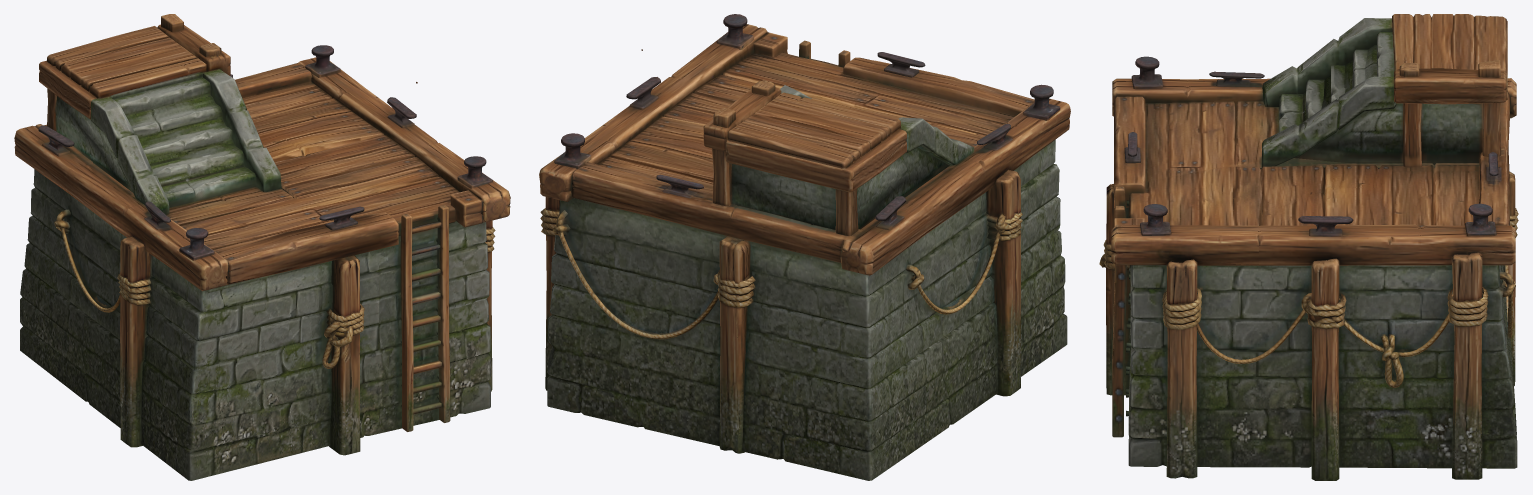
The model's file is stone_dock1.glb.
3 renders of one model, left to right at view 1: azimuth 30°, elevation 25°; view 2: azimuth 150°, elevation 25°; view 3: azimuth 270°, elevation 25°, orthographic. The views are drawn at different scales.
Parts seen in each view (by area): view 1: b5bedbb8_5c4b_46ec_972d_582357ed6778; view 2: b5bedbb8_5c4b_46ec_972d_582357ed6778; view 3: b5bedbb8_5c4b_46ec_972d_582357ed6778.
Part boxes in pixels (x1=…): b5bedbb8_5c4b_46ec_972d_582357ed6778: x1=14, y1=14, x2=510, y2=480; b5bedbb8_5c4b_46ec_972d_582357ed6778: x1=539, y1=14, x2=1070, y2=480; b5bedbb8_5c4b_46ec_972d_582357ed6778: x1=1099, y1=14, x2=1518, y2=480.
Bounding box in the file's own units: 0.9995 × 0.8579 × 0.9985.
1 material, 1 textured.
